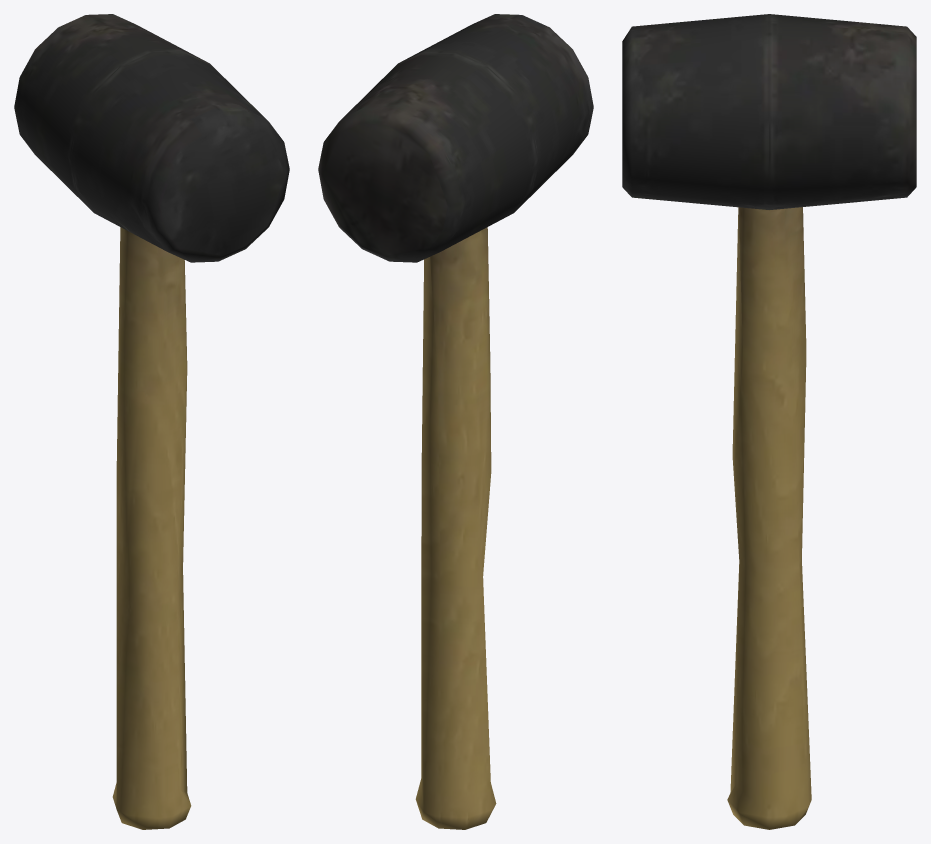
The model's file is Mallet.glb.
3 renders of one model, left to right at view 1: azimuth 30°, elevation 25°; view 2: azimuth 150°, elevation 25°; view 3: azimuth 270°, elevation 25°, orthographic. The views are drawn at different scales.
Visible parts, largest first — view 1: mallet; view 2: mallet; view 3: mallet.
Boxes of the visible parts, x1,y1,x2,y2 form: mallet: [14, 14, 289, 829]; mallet: [318, 14, 593, 829]; mallet: [622, 14, 916, 829].
Size of the model in its own units: 0.0769 by 0.342 by 0.1153.
Materials: 1 (1 with a texture image).
